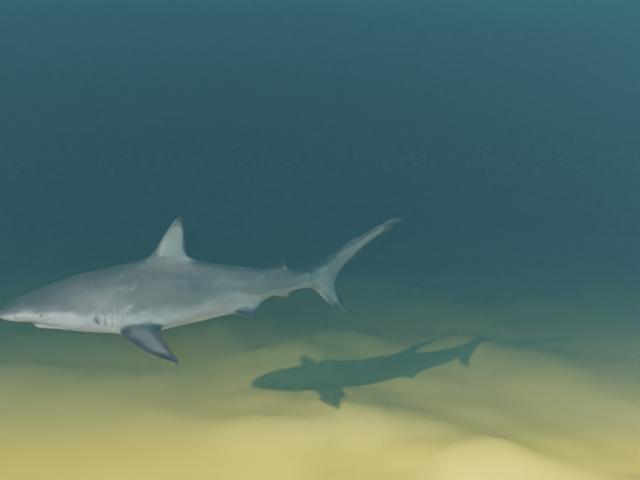Carribean Shark.001: (0, 216, 401, 364)
